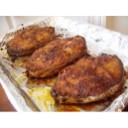seerfish: (56, 56, 123, 104), (27, 36, 85, 72), (5, 26, 55, 50)
